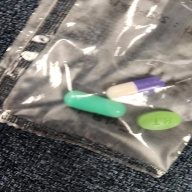씨엠지세파클러캡슐: (105, 76, 164, 100)
에르도캡슐: (63, 91, 126, 118)
휴티렌정: (138, 110, 182, 131)
